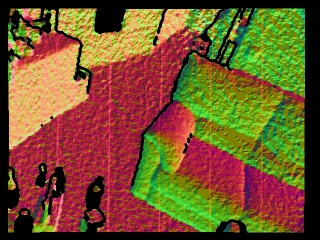station: (31, 173, 64, 233)
